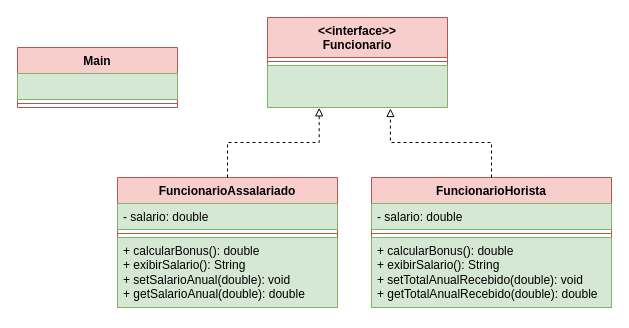
The diagram is 629 pixels wide and 328 high, and some of its shapes have lost their labels. Each missing label, with the centre of its shape:
+ main(String[] args): void: the point at 97,86
~ calcularBonus(): double ~ exibirSalario(): String: the point at 357,86
